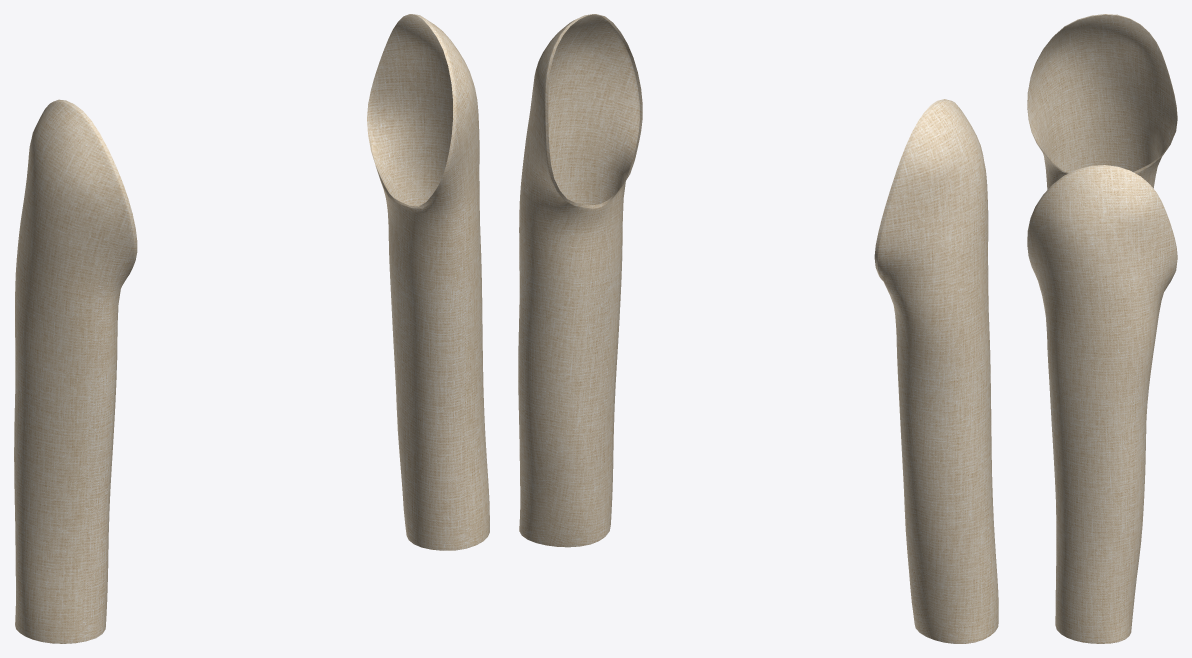
The model's file is Lightly_padded.glb.
The picture shows the model from 3 angles, left to right: view 1: azimuth 30°, elevation 25°; view 2: azimuth 150°, elevation 25°; view 3: azimuth 270°, elevation 25°; orthographic projection. The views are drawn at different scales.
Parts seen in each view (by area): view 1: Lightly_padded; view 2: Lightly_padded; view 3: Lightly_padded.
Part boxes in pixels (bbox=[...]): Lightly_padded: bbox=[14, 14, 489, 643]; Lightly_padded: bbox=[518, 14, 998, 643]; Lightly_padded: bbox=[1027, 14, 1177, 643].
Size of the model in its own units: 0.0771 by 0.0821 by 0.0246.
1 material, 1 textured.
